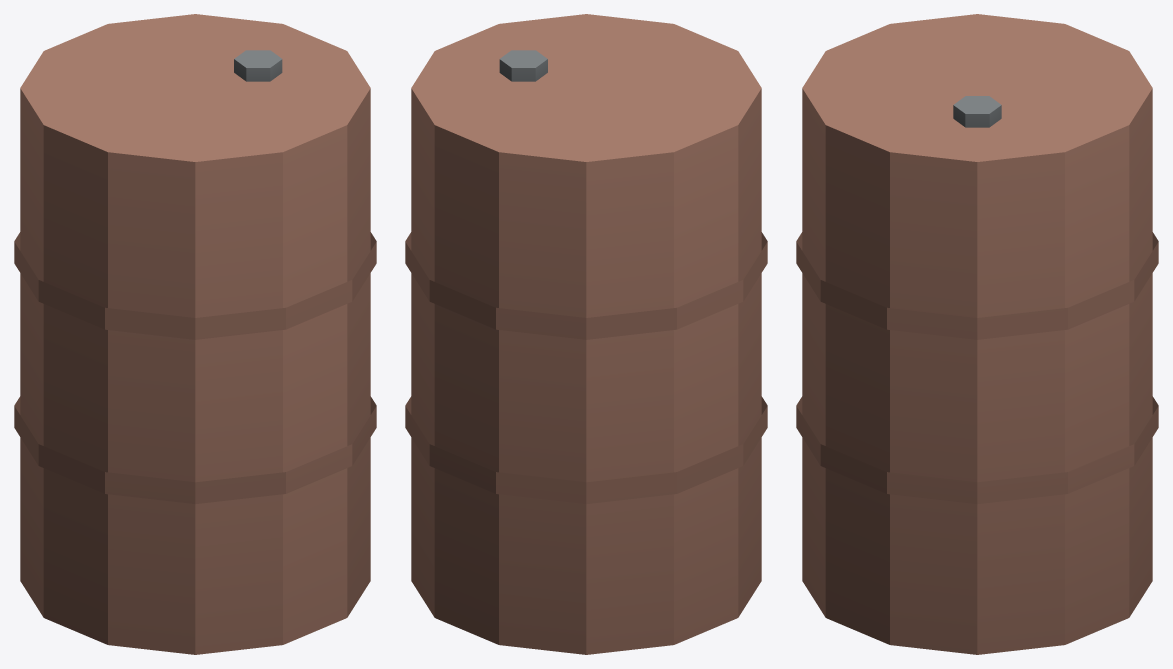
Rendered from int_drum.glb.
3 views of the same model, side by side, from view 1: azimuth 30°, elevation 25°; view 2: azimuth 150°, elevation 25°; view 3: azimuth 270°, elevation 25° (orthographic).
Parts seen in each view (by area): view 1: int_drum; view 2: int_drum; view 3: int_drum.
Boxes of the visible parts, box(x1,y1,x2,y2) form: int_drum: box(14, 14, 376, 654); int_drum: box(405, 14, 767, 654); int_drum: box(796, 14, 1158, 654).
Size of the model in its own units: 0.6 by 0.925 by 0.6.
